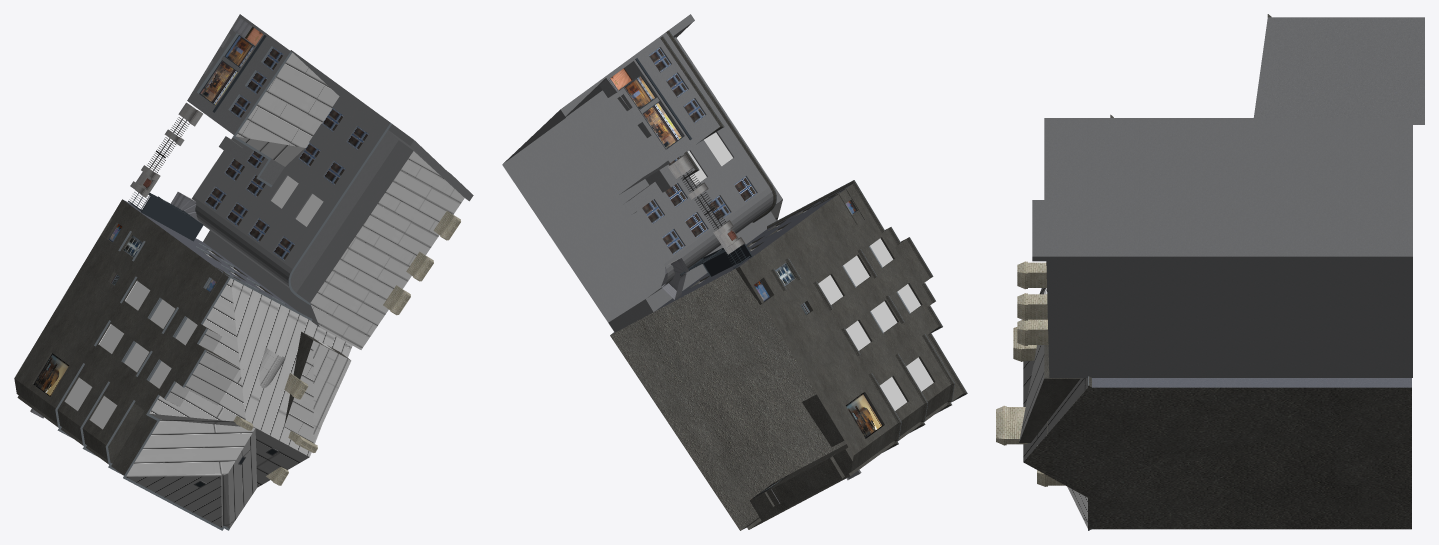
File: Sauna2.obj
3 renders of one model, left to right at view 1: azimuth 30°, elevation 25°; view 2: azimuth 150°, elevation 25°; view 3: azimuth 270°, elevation 25°, orthographic. The views are drawn at different scales.
Parts seen in each view (by area): view 1: Sauna_2; view 2: Sauna_2; view 3: Sauna_2.
Boxes of the visible parts, x1,y1,x2,y2 form: Sauna_2: (14, 14, 473, 530); Sauna_2: (502, 14, 967, 530); Sauna_2: (996, 14, 1424, 530).
Bounding box in the file's own units: 27.84 × 32.24 × 20.67.
